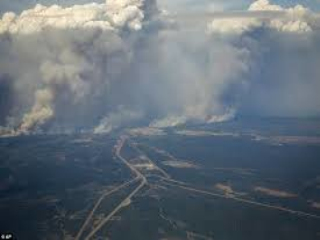smoke: (194, 11, 293, 125), (14, 44, 106, 133)
